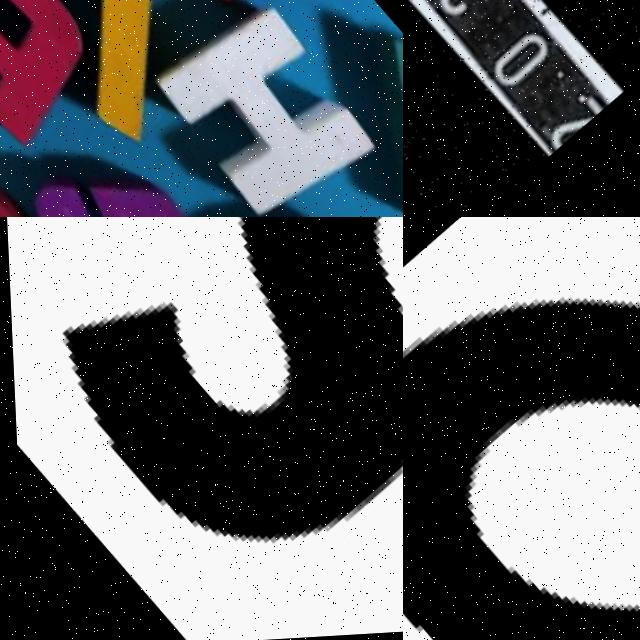0: (476, 31, 553, 104)
2: (530, 99, 601, 162), (423, 0, 501, 35)
G: (9, 124, 250, 217)
H: (130, 0, 403, 217)
L: (0, 0, 222, 158)
M: (304, 28, 403, 217)
O: (403, 299, 640, 640)
S: (0, 217, 403, 640)
W: (107, 0, 326, 25)
